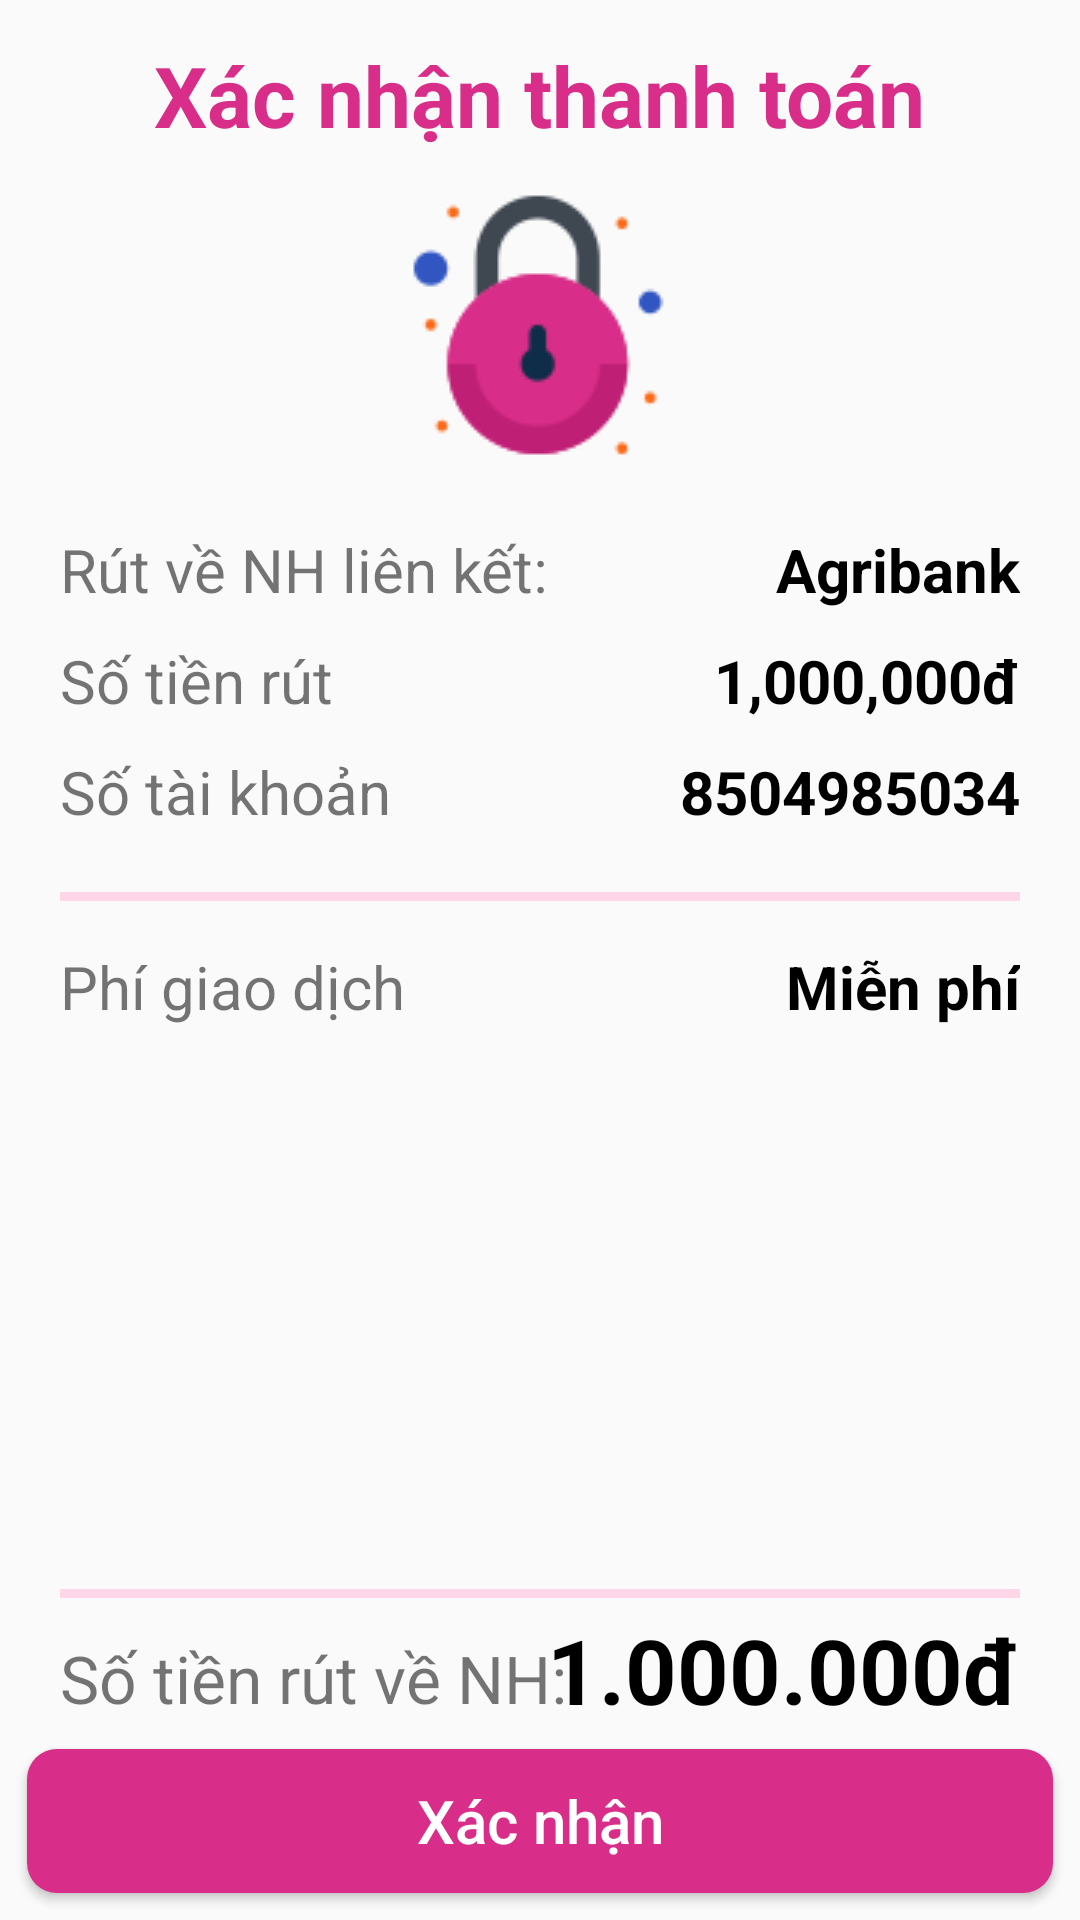

Named icons in this screenshot (1080 × 1920) and their bounding boxes, (x1, y1, x2, y2):
lock: (413, 195, 664, 455)
